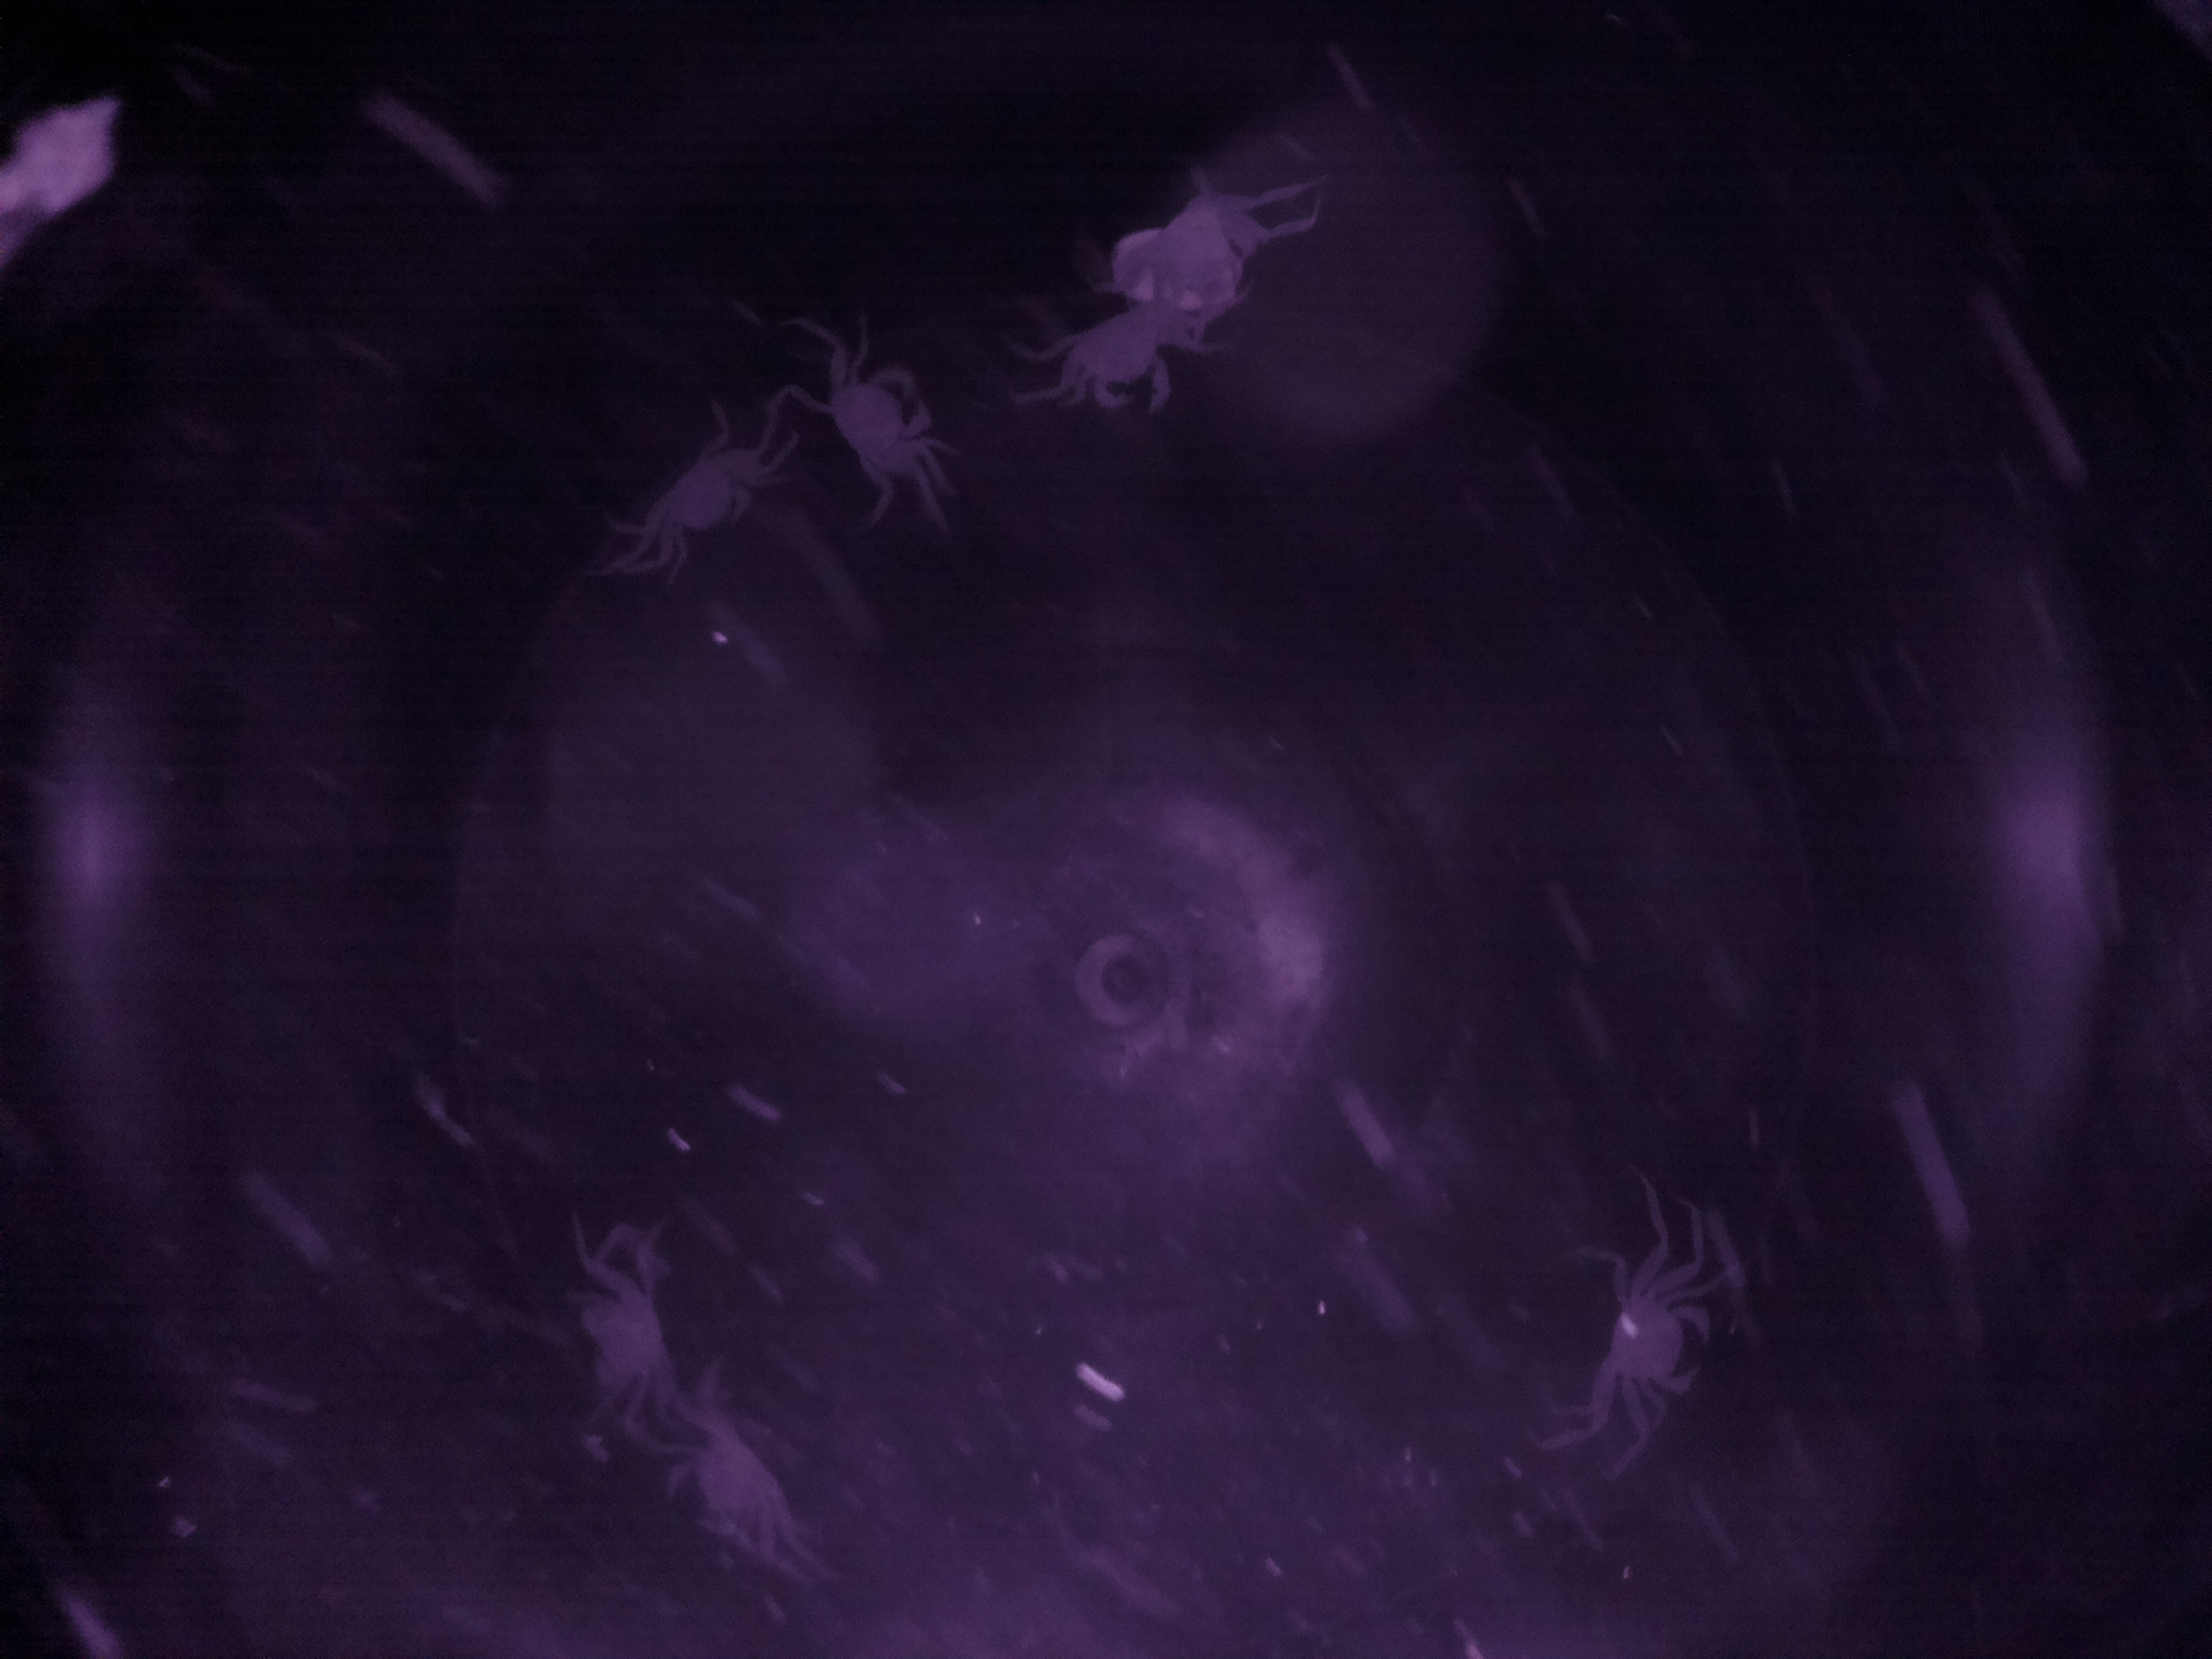Crab: (1555, 1244, 1740, 1412)
